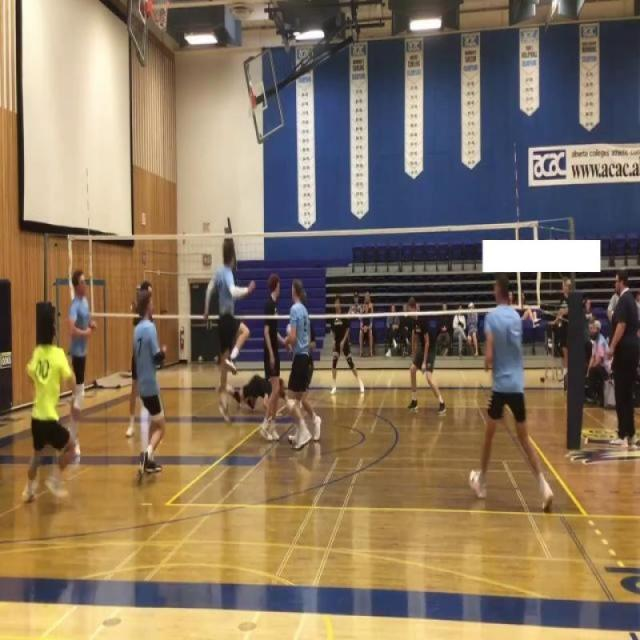volleyball: (286, 323, 292, 336), (214, 354, 219, 365), (198, 354, 203, 365)
